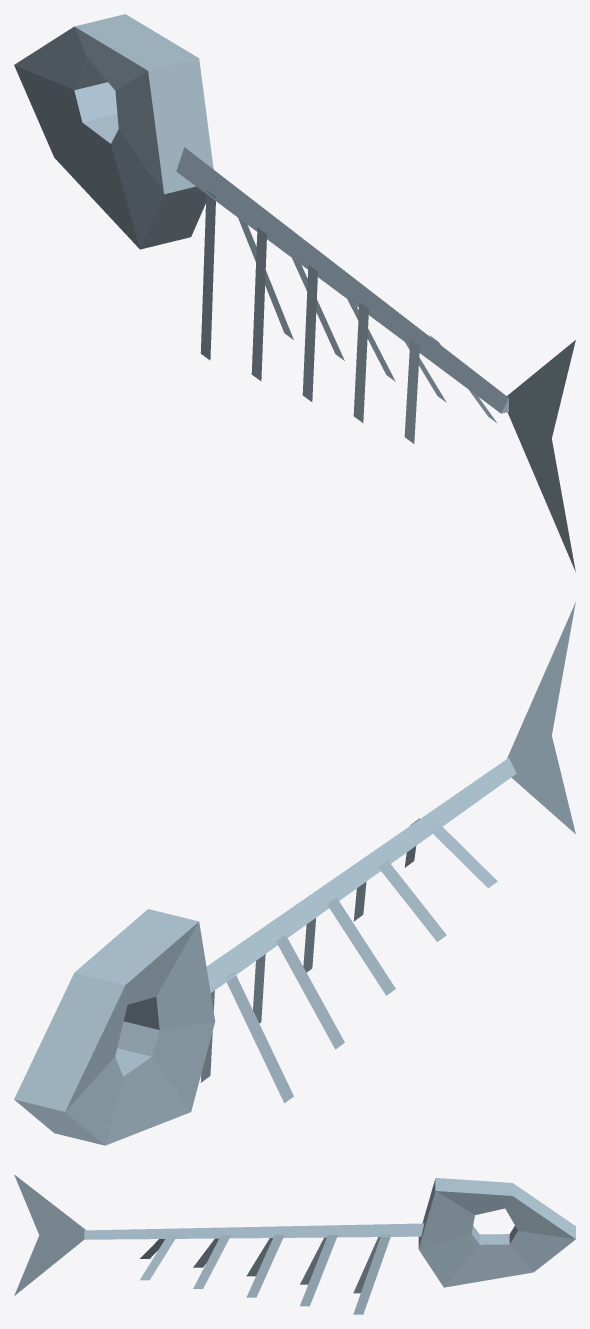
File: ghost_fish_bare.glb
The picture shows the model from 3 angles, top to bottom: view 1: azimuth 30°, elevation 25°; view 2: azimuth 150°, elevation 25°; view 3: azimuth 270°, elevation 25°; orthographic projection. The views are drawn at different scales.
Parts seen in each view (by area): view 1: ghost_fish_bare; view 2: ghost_fish_bare; view 3: ghost_fish_bare.
Part boxes in pixels (x1=…): ghost_fish_bare: x1=14, y1=14, x2=575, y2=572; ghost_fish_bare: x1=14, y1=602, x2=575, y2=1145; ghost_fish_bare: x1=14, y1=1174, x2=575, y2=1314.
Bounding box in the file's own units: 0.036 × 0.102 × 0.4.
